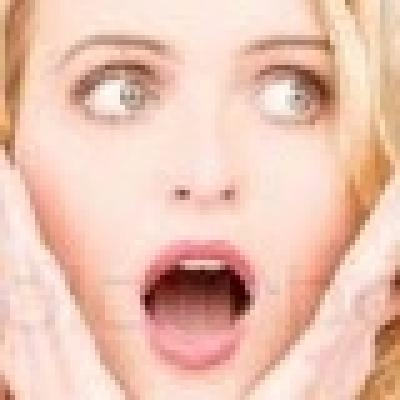surprise: (24, 0, 370, 400)
